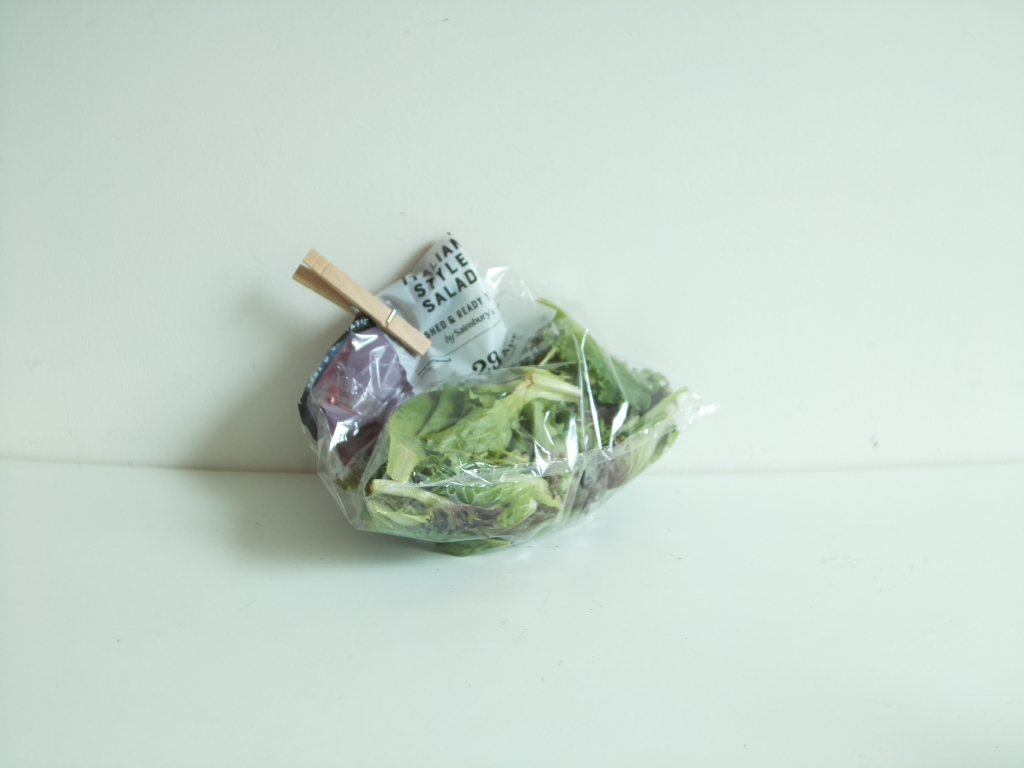salad: (294, 240, 701, 559)
